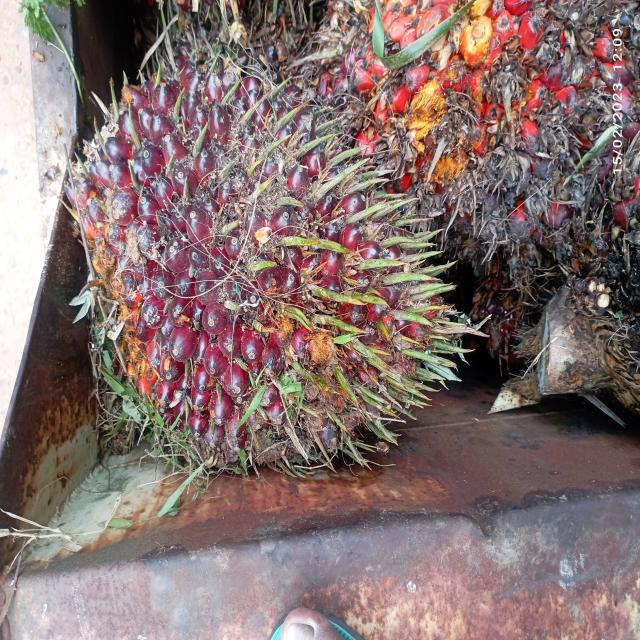fraksi 1: (67, 28, 448, 484)
